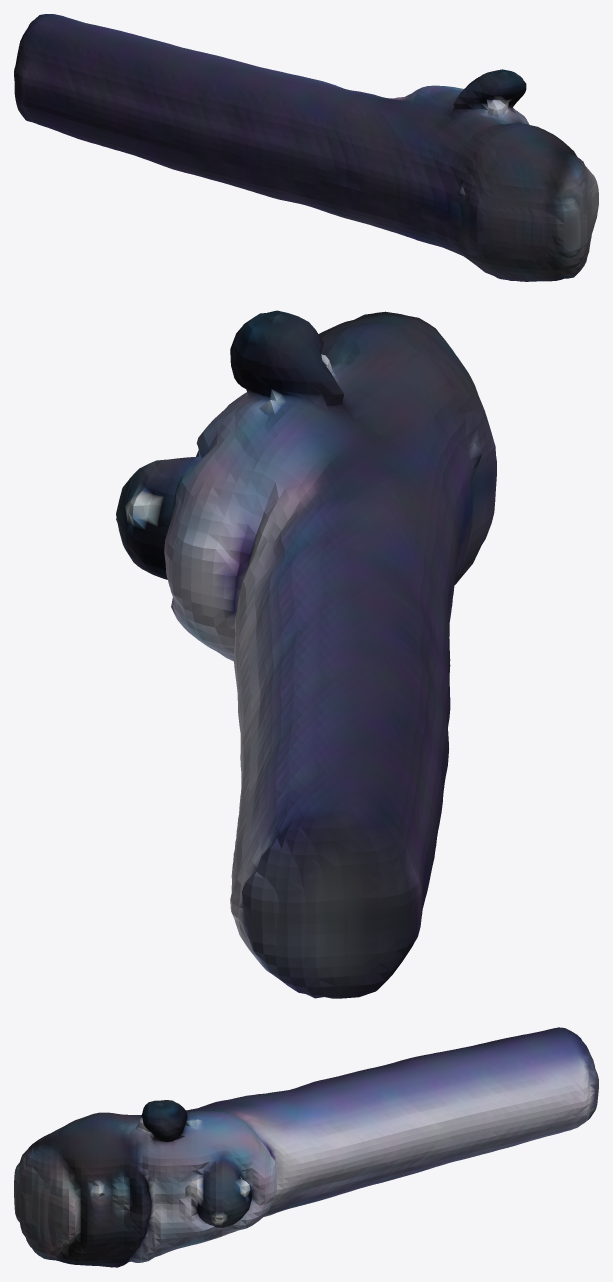
The picture shows the model from 3 angles, top to bottom: view 1: azimuth 30°, elevation 25°; view 2: azimuth 150°, elevation 25°; view 3: azimuth 270°, elevation 25°; orthographic projection. The views are drawn at different scales.
Size of the model in its own units: 0.4021 by 0.2068 by 0.6517.
